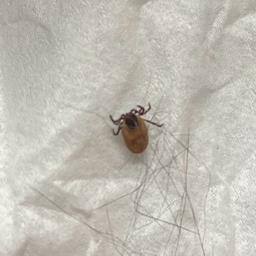Ixodes scapularis: (108, 102, 164, 153)
